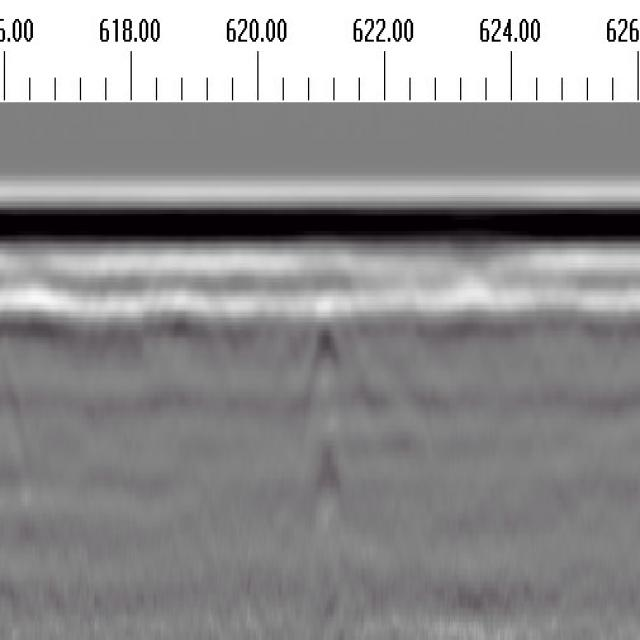crack: (307, 293, 344, 598)
